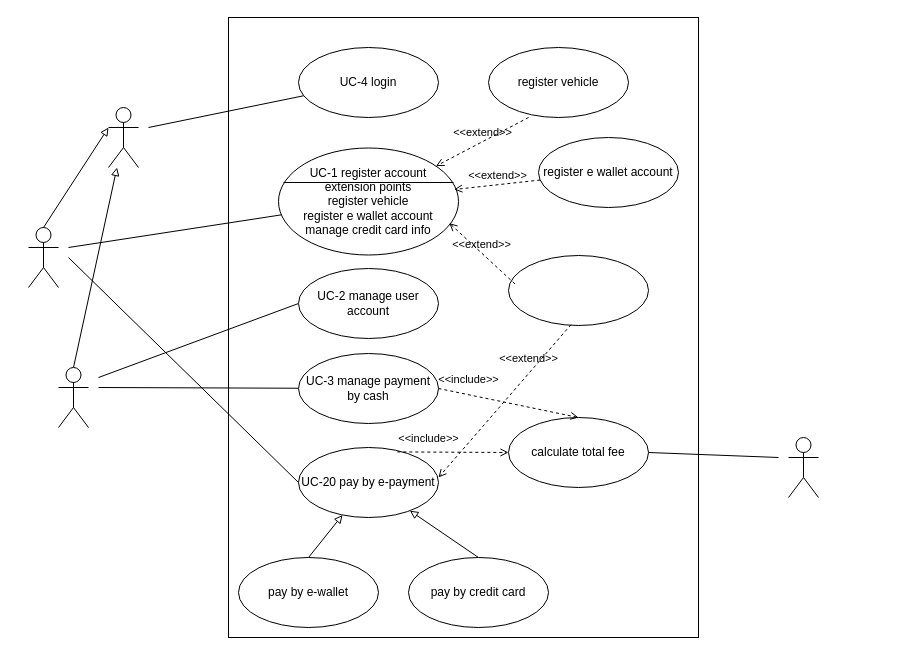
The diagram is 897 pixels wide and 655 high, and some of its shapes have lost their labels. Here are the shapes that lost their labels. From the top down, the box of each, then its label:
(108, 106, 138, 168): User
(28, 226, 58, 288): Customer
(508, 254, 648, 326): manage credit card info
(58, 366, 88, 428): Parking Attendant
(788, 436, 818, 498): Payment Processing System
